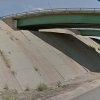Bridge: (9, 4, 95, 36)
